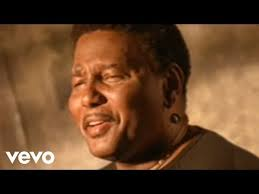black_male: (74, 49, 192, 164)
